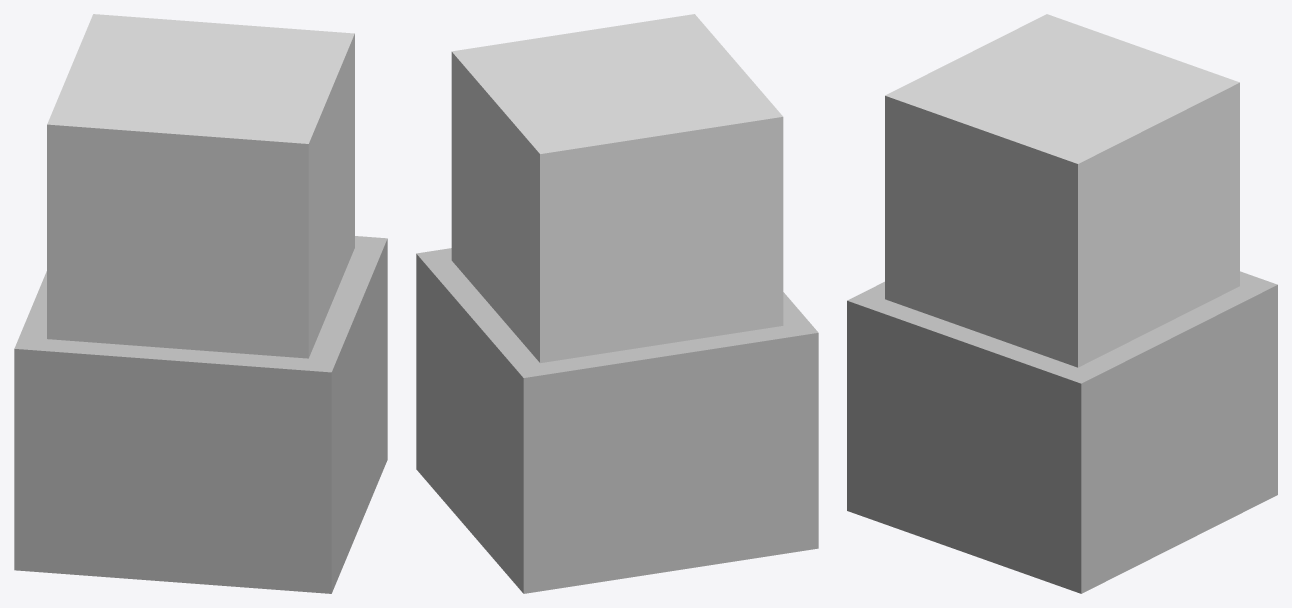
Rendered from Geodo.gltf.
3 renders of one model, left to right at view 1: azimuth 30°, elevation 25°; view 2: azimuth 150°, elevation 25°; view 3: azimuth 270°, elevation 25°, orthographic. The views are drawn at different scales.
Parts seen in each view (by area): view 1: Geodo; view 2: Geodo; view 3: Geodo.
Part boxes in pixels (left/top/right/bottom): Geodo: left=14, top=14, right=387, bottom=593; Geodo: left=416, top=14, right=818, bottom=593; Geodo: left=847, top=14, right=1277, bottom=593.
Bounding box in the file's own units: 1.57 × 1.66 × 1.57.
Materials: 1 (1 with a texture image).
